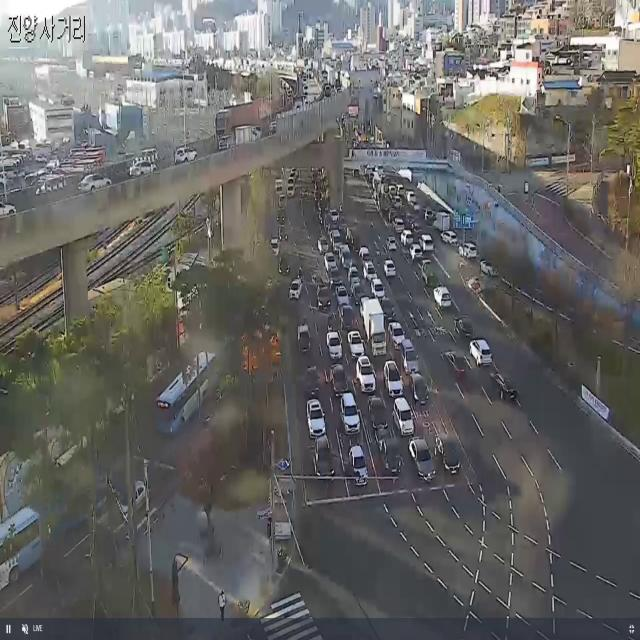bus: (324, 314, 336, 336)
car: (154, 345, 218, 446)
motorcycle: (109, 476, 148, 540), (408, 444, 436, 484), (340, 396, 364, 441), (375, 440, 398, 483), (489, 371, 518, 405), (313, 442, 333, 491), (399, 347, 420, 385), (302, 355, 322, 394), (469, 335, 492, 368), (308, 403, 329, 439), (443, 355, 465, 389), (454, 312, 476, 345), (388, 319, 406, 358), (369, 399, 389, 433), (356, 357, 376, 389), (352, 448, 370, 483), (412, 375, 430, 410), (348, 334, 368, 364), (397, 399, 414, 434), (440, 434, 454, 476), (339, 301, 357, 333), (388, 360, 403, 398), (330, 363, 348, 394), (381, 297, 400, 325), (316, 282, 332, 314), (334, 281, 352, 309), (459, 243, 475, 270), (434, 287, 454, 307), (440, 226, 458, 248), (347, 264, 361, 292), (421, 261, 437, 285), (482, 262, 497, 286), (362, 262, 380, 282), (328, 332, 341, 357), (297, 329, 310, 354), (290, 277, 302, 300), (372, 282, 387, 298), (352, 280, 363, 300), (384, 259, 396, 277), (386, 235, 398, 252), (410, 244, 420, 264)
truck: (0, 501, 46, 599), (362, 298, 390, 354), (79, 174, 121, 208), (35, 168, 65, 200), (132, 151, 157, 184), (232, 128, 262, 153), (176, 143, 194, 178)
